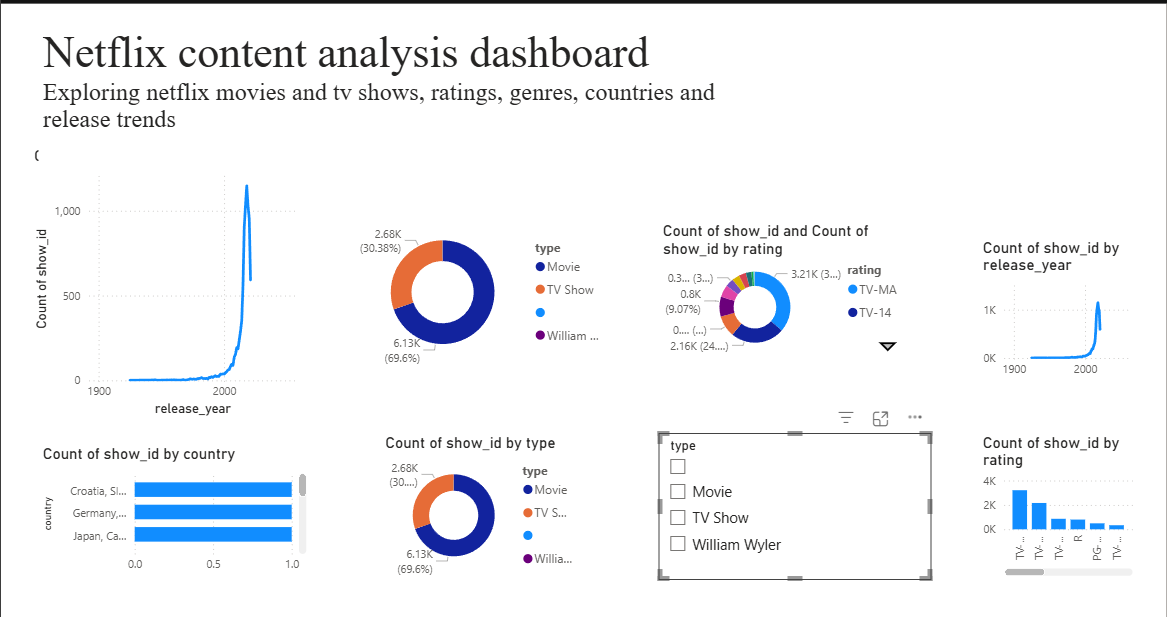

Layout of this report page (visuals, bound fields, positions):
{"tool":"powerbi","page":{"name":"Page 1","canvas":[1280,720],"ordinal":0},"visuals":[{"type":"donutChart","fields":{"Category":["netflix_titles.type"],"Y":["CountNonNull(netflix_titles.show_id)"]},"box":[378.7,201.7,300.5,300.5],"z":1},{"type":"lineChart","fields":{"Category":["netflix_titles.release_year"],"Y":["CountNonNull(netflix_titles.show_id)"]},"box":[31.6,201.7,300.5,300.5],"z":2},{"type":"donutChart","fields":{"Category":["netflix_titles.rating","netflix_titles.listed_in"],"Y":["CountNonNull(netflix_titles.show_id)","CountNonNull(netflix_titles.show_id)"]},"box":[721.8,284,299.1,149.6],"z":3},{"type":"clusteredBarChart","fields":{"Category":["netflix_titles.country"],"Y":["CountNonNull(netflix_titles.show_id)"]},"box":[41.2,528.3,299.1,149.6],"z":4},{"type":"textbox","box":[41.2,65.9,806.9,161.9],"z":5},{"type":"slicer","fields":{"Values":["netflix_titles.type"]},"box":[721.8,516,299.1,161.9],"z":6},{"type":"donutChart","fields":{"Category":["netflix_titles.type"],"Y":["CountNonNull(netflix_titles.show_id)"]},"box":[417.2,516,225,161.9],"z":7},{"type":"lineChart","fields":{"Category":["netflix_titles.release_year"],"Y":["CountNonNull(netflix_titles.show_id)"]},"box":[1073.1,301.9,174.3,161.9],"z":8},{"type":"clusteredColumnChart","fields":{"Category":["netflix_titles.rating"],"Y":["CountNonNull(netflix_titles.show_id)"]},"box":[1073.1,516,174.3,161.9],"z":9}]}

Visuals, with their boxes on the page's 1280x720 design canvas (x1, y1, x2, y2). These are canvas units, not pixel positions in the 1167x617 screenshot, which may show the page scaled, cropped or inside an application window:
donutChart - netflix_titles.type x CountNonNull(netflix_titles.show_id): locate(379, 202, 679, 502)
lineChart - netflix_titles.release_year x CountNonNull(netflix_titles.show_id): locate(32, 202, 332, 502)
donutChart - netflix_titles.rating x netflix_titles.listed_in: locate(722, 284, 1021, 434)
clusteredBarChart - netflix_titles.country x CountNonNull(netflix_titles.show_id): locate(41, 528, 340, 678)
textbox: locate(41, 66, 848, 228)
slicer - netflix_titles.type: locate(722, 516, 1021, 678)
donutChart - netflix_titles.type x CountNonNull(netflix_titles.show_id): locate(417, 516, 642, 678)
lineChart - netflix_titles.release_year x CountNonNull(netflix_titles.show_id): locate(1073, 302, 1247, 464)
clusteredColumnChart - netflix_titles.rating x CountNonNull(netflix_titles.show_id): locate(1073, 516, 1247, 678)
